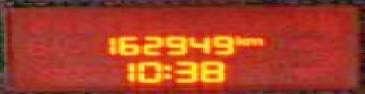0: (136, 60, 160, 81)
1: (102, 34, 116, 55), (123, 60, 134, 81)
2: (141, 34, 163, 55)
3: (171, 59, 196, 83)
4: (187, 34, 209, 53)
6: (116, 34, 138, 55)
8: (196, 59, 225, 83)
9: (162, 34, 187, 55), (210, 34, 232, 54)
X: (158, 63, 171, 79), (245, 36, 263, 45), (231, 34, 245, 45)
